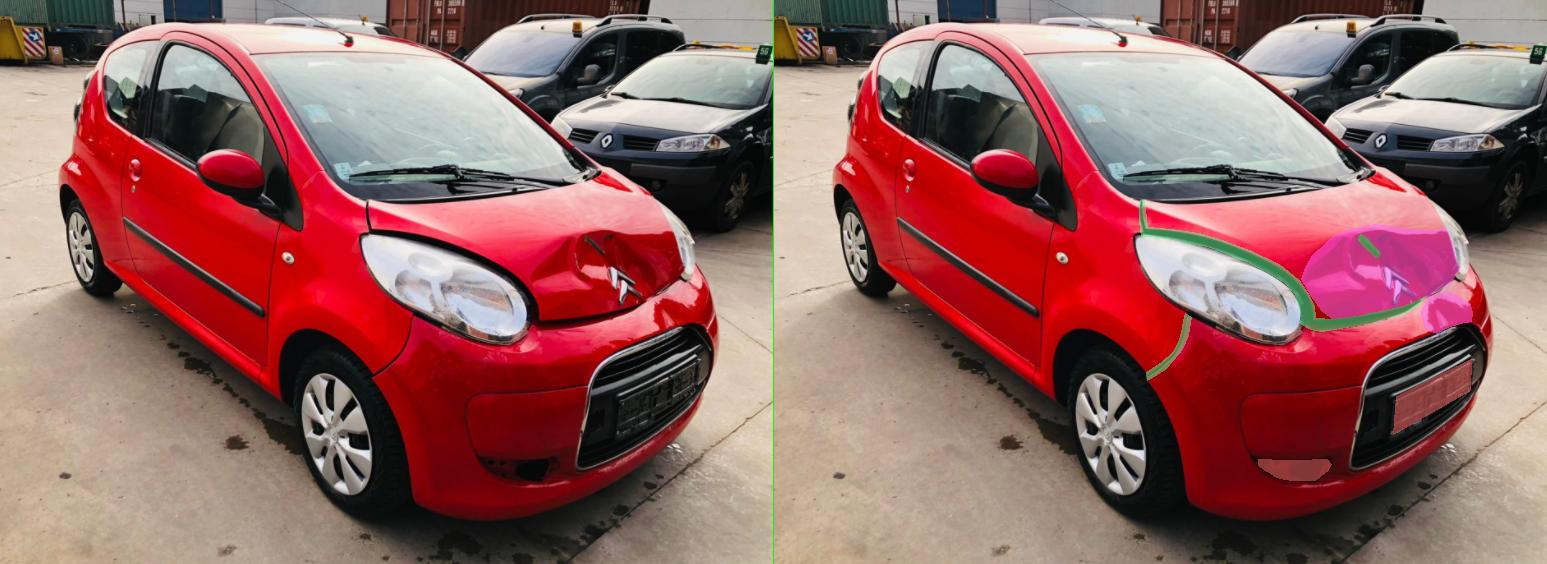Broken part: (730, 200, 1305, 331), (744, 313, 835, 380), (1167, 234, 1213, 257)
Dent: (1055, 224, 1371, 321), (1295, 291, 1397, 333)
Missing part: (1239, 359, 1395, 434), (969, 459, 1115, 480)
